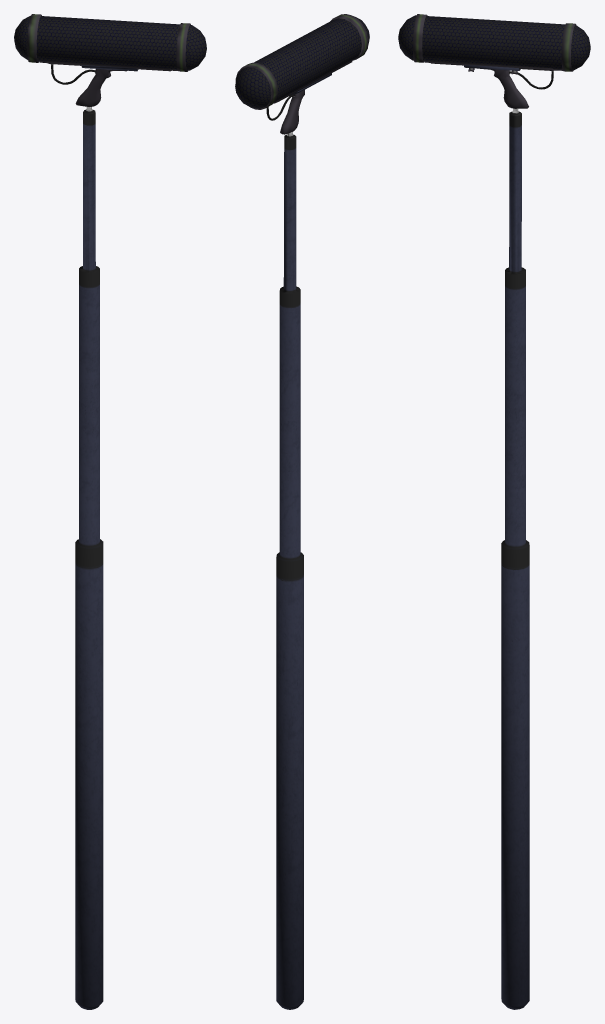
Rendered from mic.glb.
3 views of the same model, side by side, from view 1: azimuth 90°, elevation 25°; view 2: azimuth 150°, elevation 25°; view 3: azimuth 270°, elevation 25° (orthographic). The views are drawn at different scales.
Parts seen in each view (by area): view 1: mic; view 2: mic; view 3: mic.
Boxes of the visible parts, bbox=[...] form: mic: bbox=[14, 14, 206, 1009]; mic: bbox=[235, 14, 369, 1009]; mic: bbox=[398, 14, 590, 1009].
Bounding box in the file's own units: 0.1037 × 1.6 × 0.2833.
Materials: 1 (1 with a texture image).
